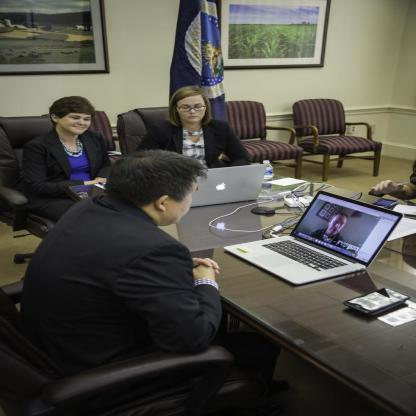board: (226, 189, 408, 290), (179, 200, 264, 254), (192, 165, 268, 207)
